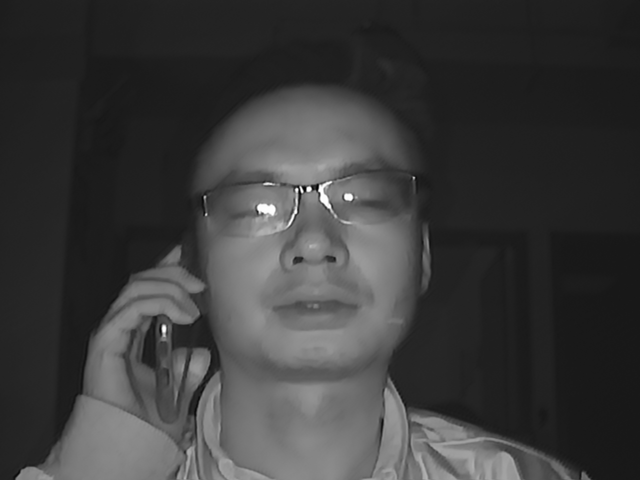hand: (85, 265, 218, 430)
